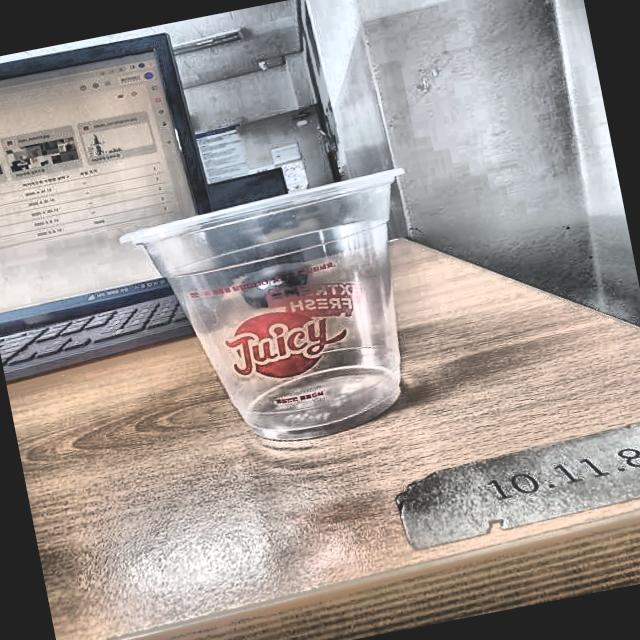plastic cup: (118, 166, 455, 464)
